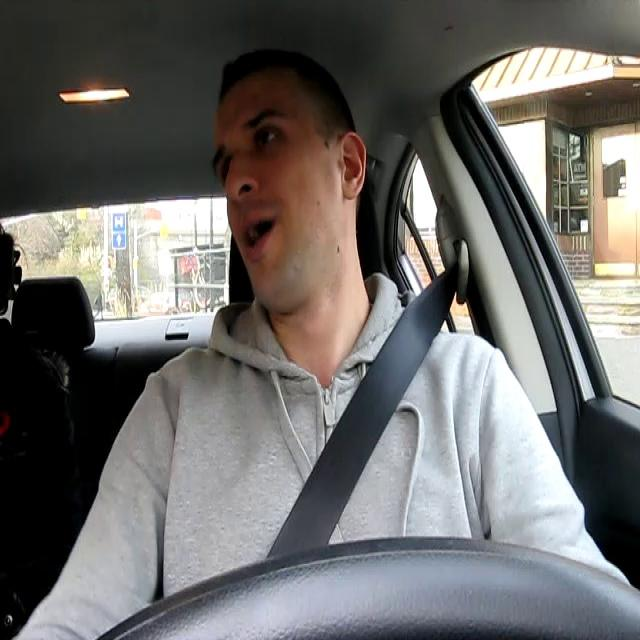open: (234, 206, 281, 262)
